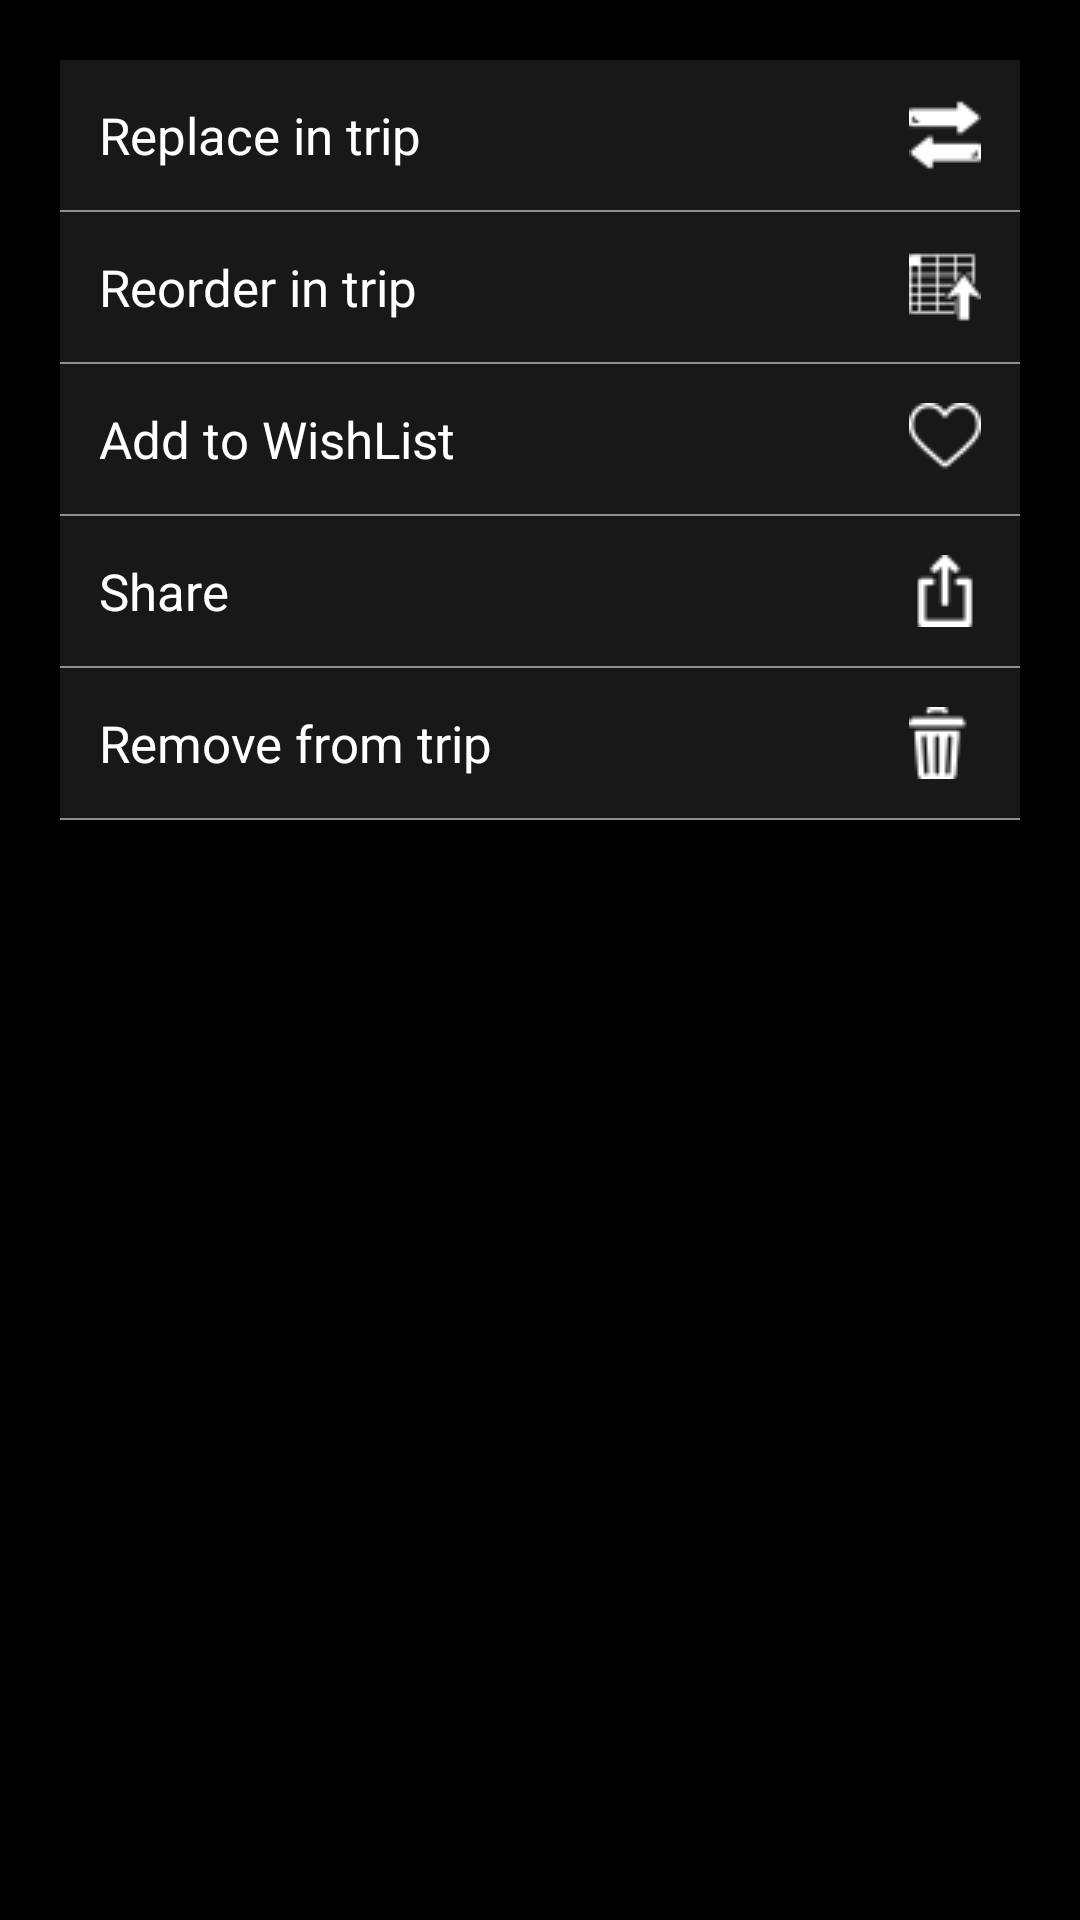

Icons on this 1080px x 1920px Android screen, each with the point to tap as point (x, y):
delete: point (938, 743)
